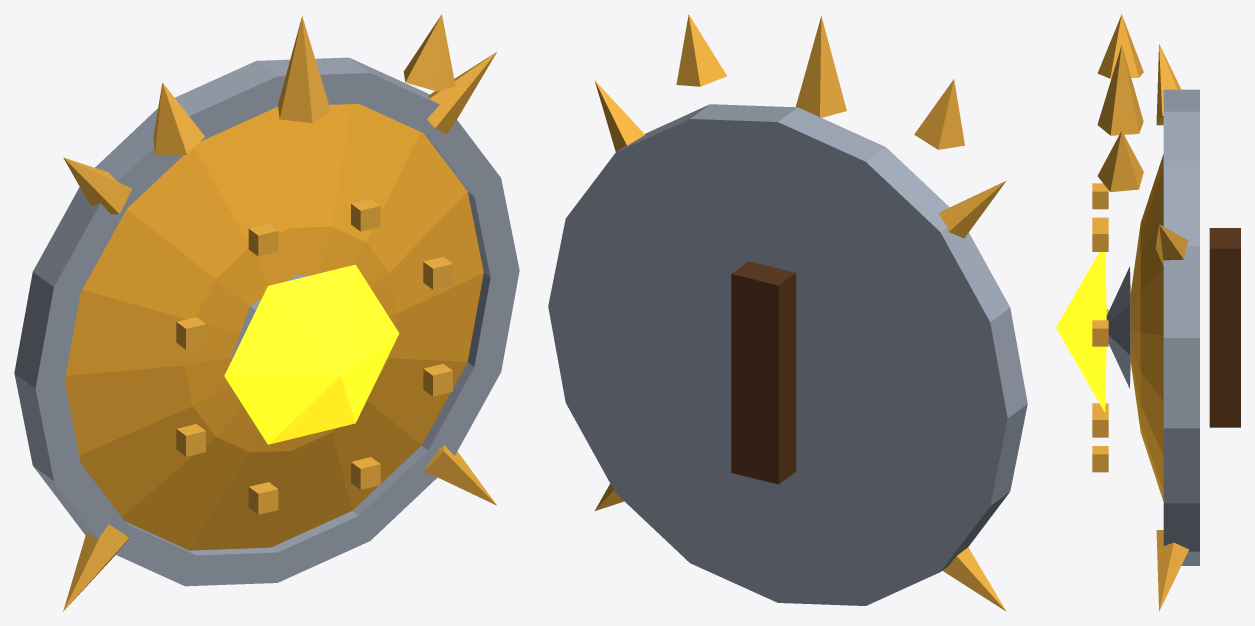
File: shield_buckler_legendary.glb
3 renders of one model, left to right at view 1: azimuth 30°, elevation 25°; view 2: azimuth 150°, elevation 25°; view 3: azimuth 270°, elevation 25°, orthographic. The views are drawn at different scales.
Parts seen in each view (by area): view 1: shield_buckler_legendary_export; view 2: shield_buckler_legendary_export; view 3: shield_buckler_legendary_export.
Part boxes in pixels (bbox=[...]): shield_buckler_legendary_export: bbox=[14, 14, 519, 611]; shield_buckler_legendary_export: bbox=[548, 14, 1027, 611]; shield_buckler_legendary_export: bbox=[1056, 14, 1240, 611].
Bounding box in the file's own units: 58 × 67 × 22.5.
